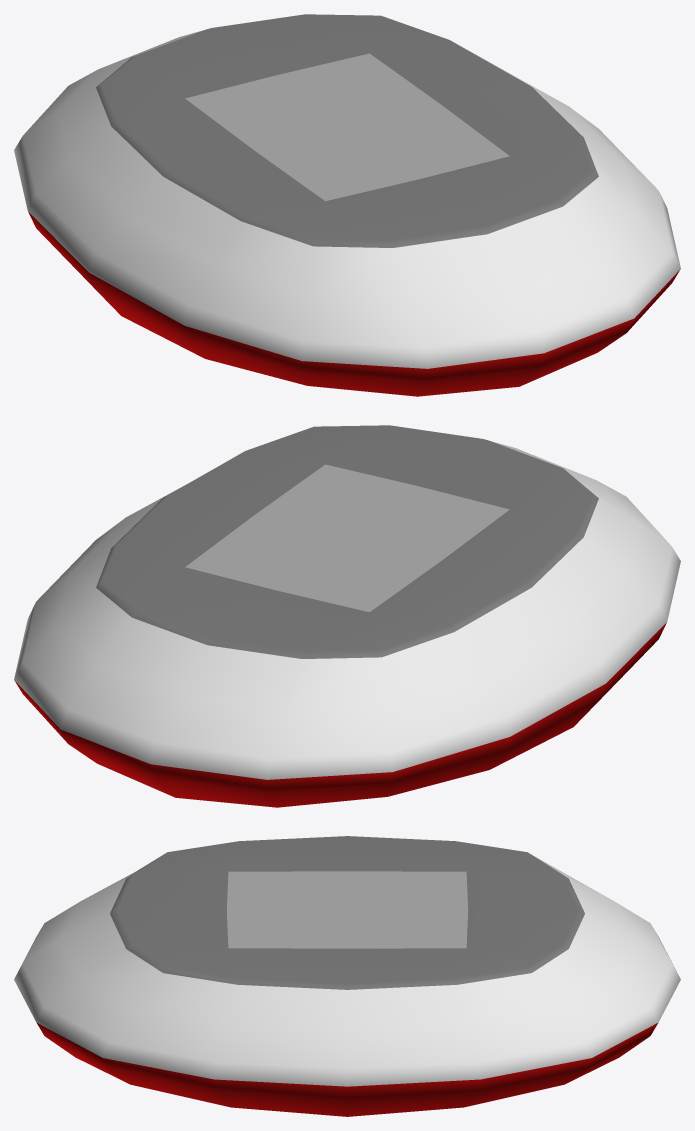
The model's file is Qubit.fbx.
3 renders of one model, top to bottom at view 1: azimuth 30°, elevation 25°; view 2: azimuth 150°, elevation 25°; view 3: azimuth 270°, elevation 25°, orthographic. The views are drawn at different scales.
Visible parts, largest first — view 1: polySurface1, polySurface2; view 2: polySurface1, polySurface2; view 3: polySurface1, polySurface2.
Part boxes in pixels (bbox=[...]): polySurface1: bbox=[14, 14, 680, 396]; polySurface2: bbox=[185, 53, 509, 201]; polySurface1: bbox=[14, 425, 680, 807]; polySurface2: bbox=[185, 464, 509, 612]; polySurface1: bbox=[14, 836, 680, 1116]; polySurface2: bbox=[226, 871, 468, 948].
Bounding box in the file's own units: 10.81 × 3.29 × 14.24.
